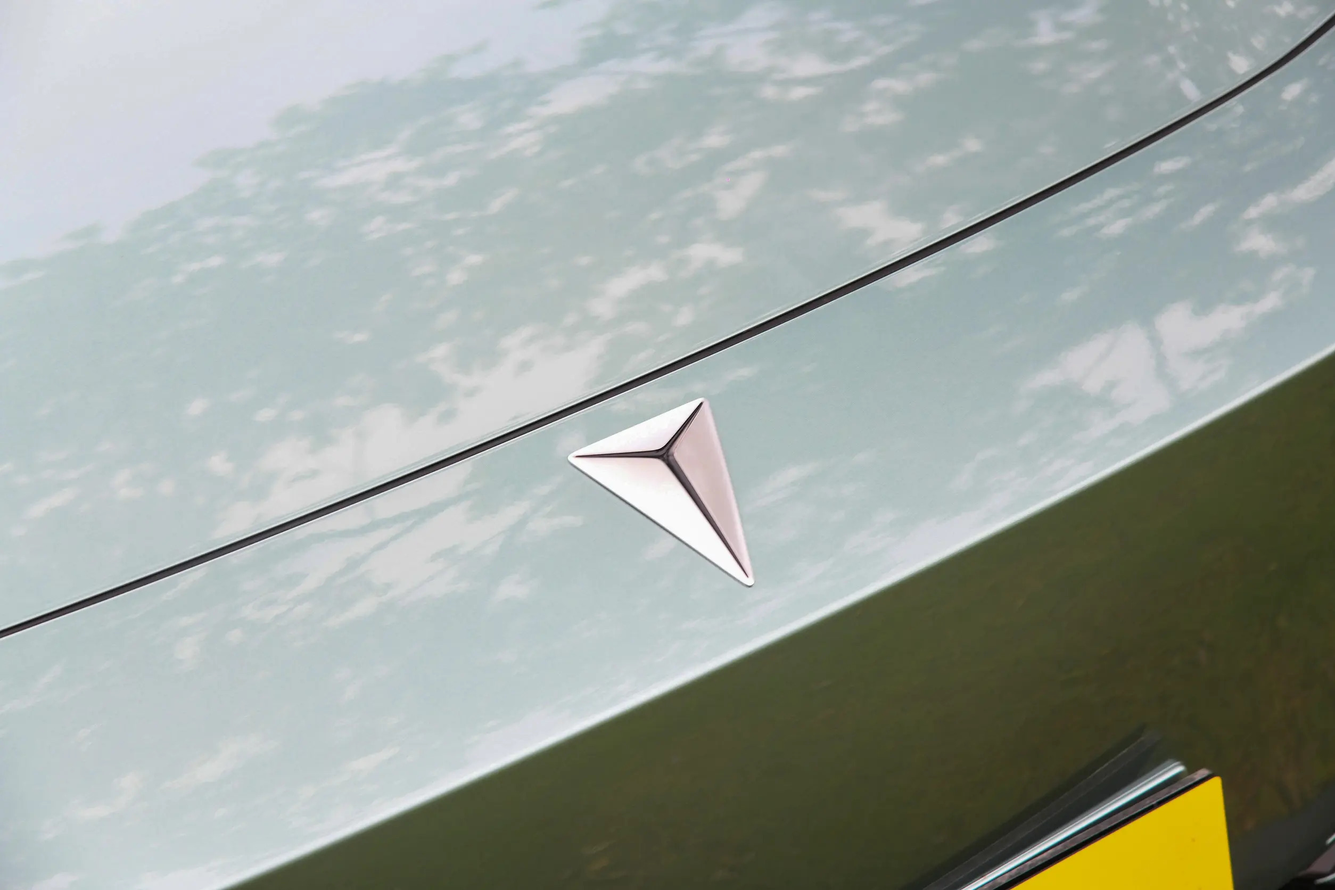Deepal: (568, 397, 754, 587)
